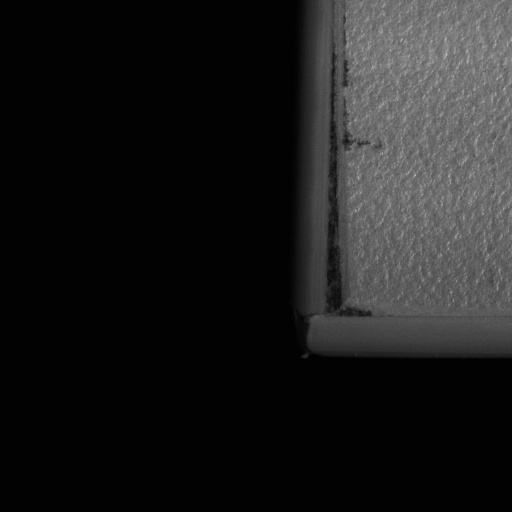kaijiao: (293, 50, 359, 322)
